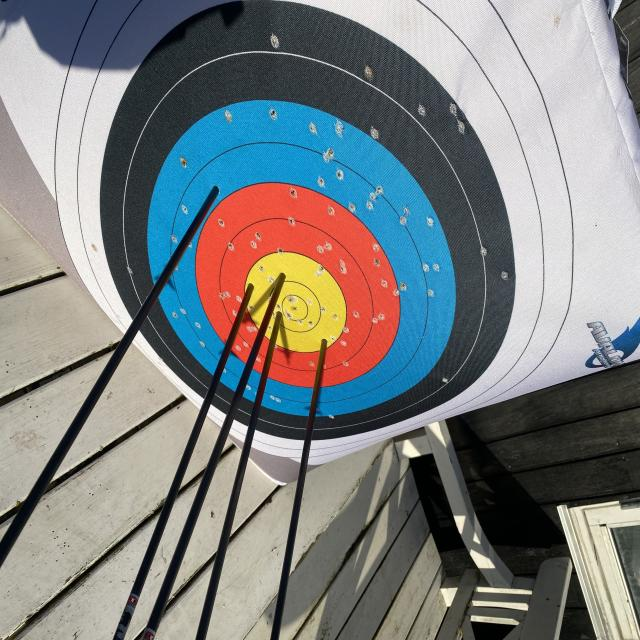Arrow_Blue: (197, 172, 228, 210)
Arrow_Yellow: (234, 277, 264, 310), (314, 326, 336, 362), (277, 266, 294, 297), (269, 304, 286, 330)
